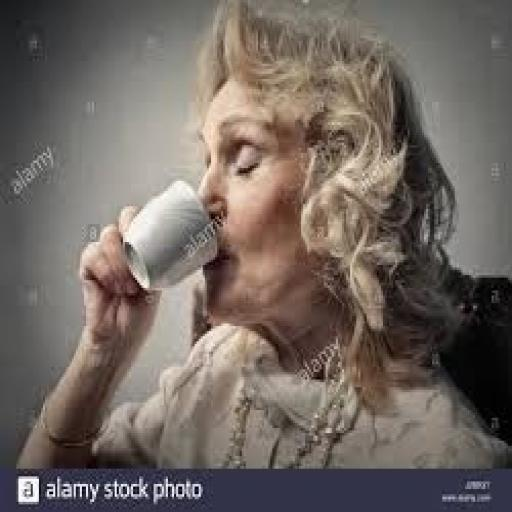drinking: (119, 20, 396, 293)
